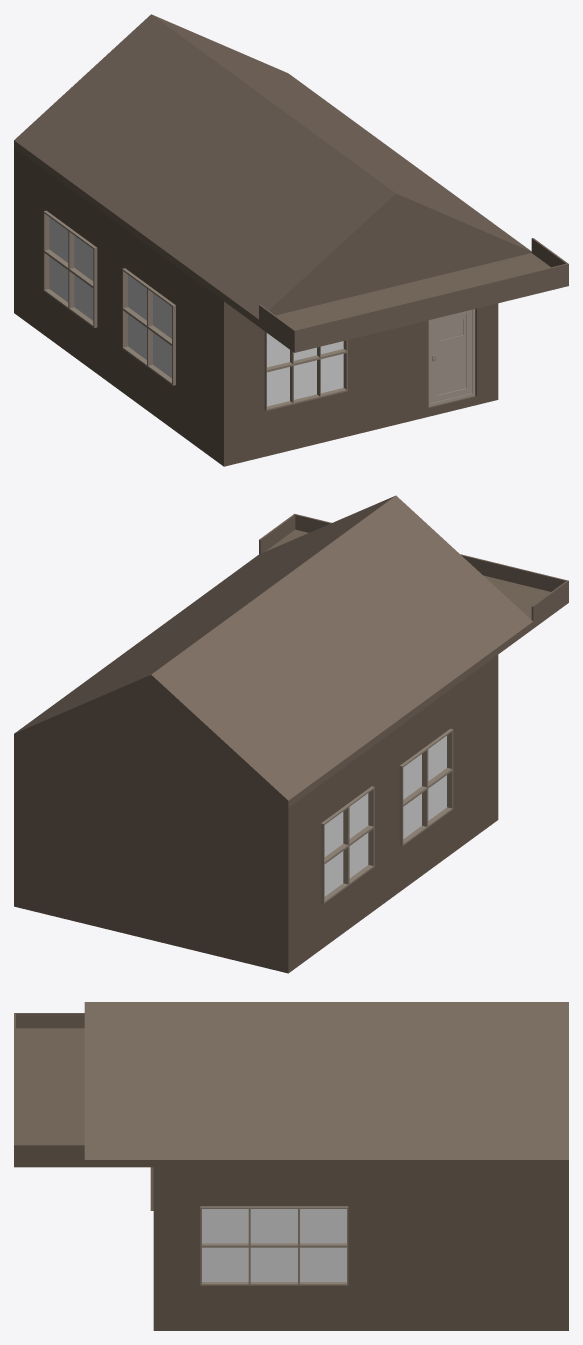
File: House_21.fbx
3 renders of one model, top to bottom at view 1: azimuth 30°, elevation 25°; view 2: azimuth 150°, elevation 25°; view 3: azimuth 270°, elevation 25°, orthographic.
Visible parts, largest first — view 1: House_21_Body; view 2: House_21_Body; view 3: House_21_Body.
Boxes of the visible parts, x1,y1,x2,y2 form: House_21_Body: [14, 14, 568, 466]; House_21_Body: [14, 495, 568, 973]; House_21_Body: [14, 1002, 568, 1330].
Bounding box in the file's own units: 597 × 541 × 1036.
